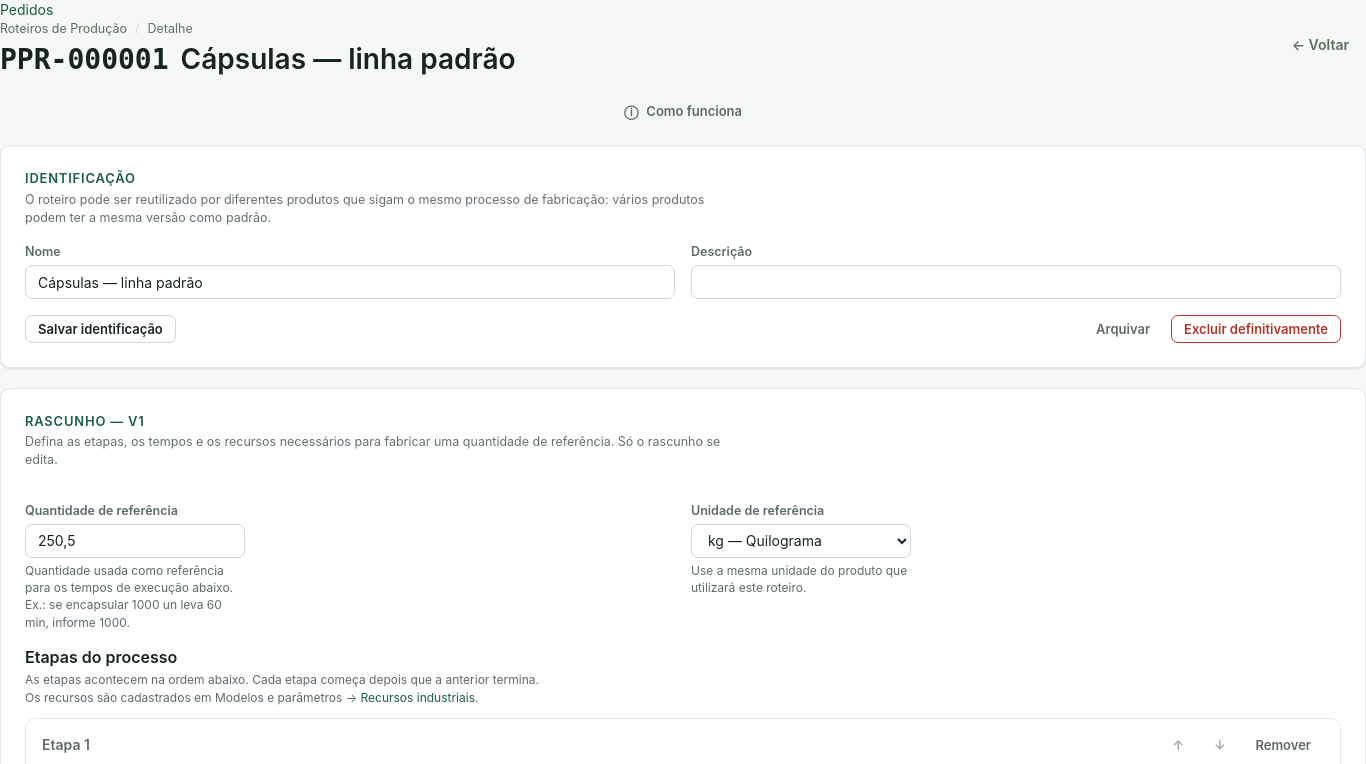
Test: Roteiro restaurado — alterações não salvas › restaurado diferente do servidor fica pendente; salvar grava o restaurado e a pendência some
Expected: the dropdown labelled "Unidade de referência" shows "kg — Quilograma", [691,524,911,558]
Expected: the field labelled "Quantidade de referência" holds "250,5", [25,524,245,558]
# A guarda de saída diz o mesmo que a frase.
Step 1. Click the link "Pedidos" → [27, 10], box [0,1,53,18]
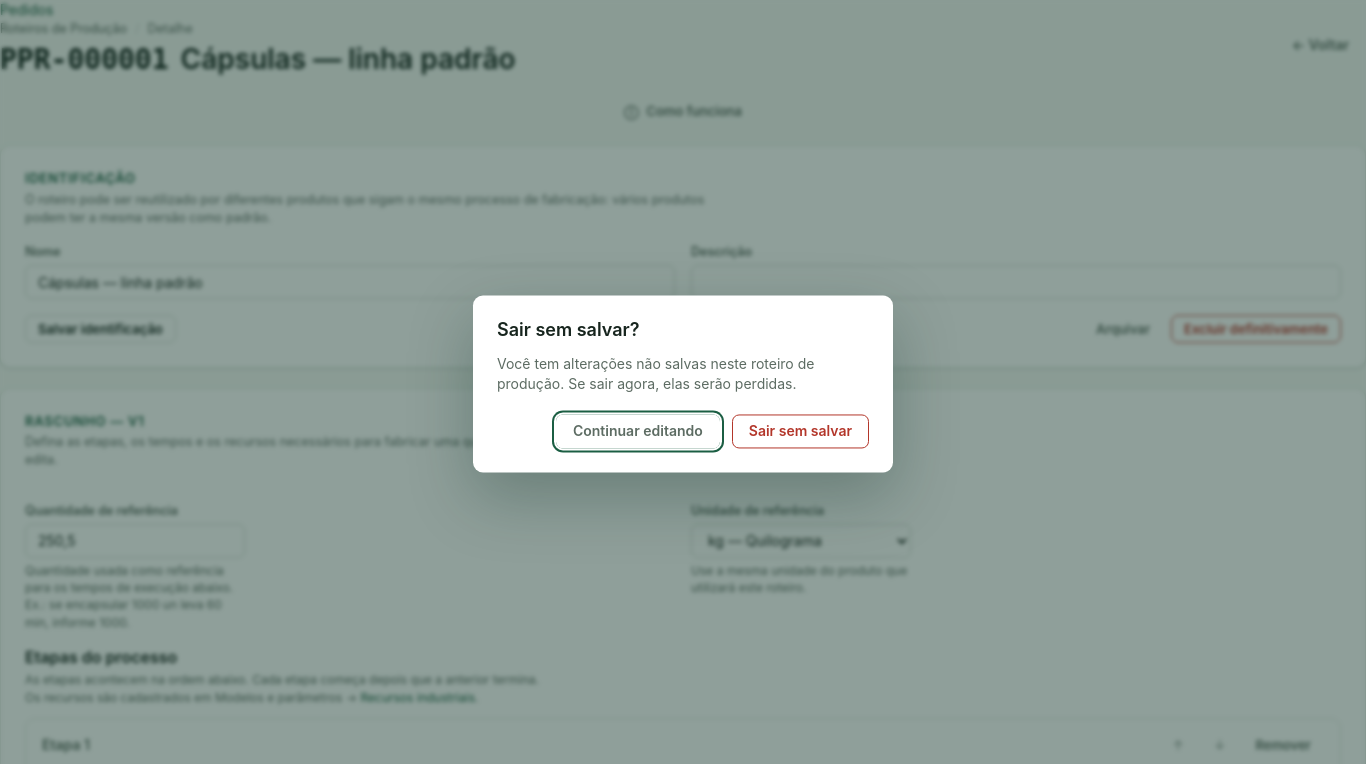
Result: the heading "Sair sem salvar?" is shown at [497,320,640,340]
Step 2. Click the button "Continuar editando" → [638, 432], box [556,414,720,448]
(page scrolled)
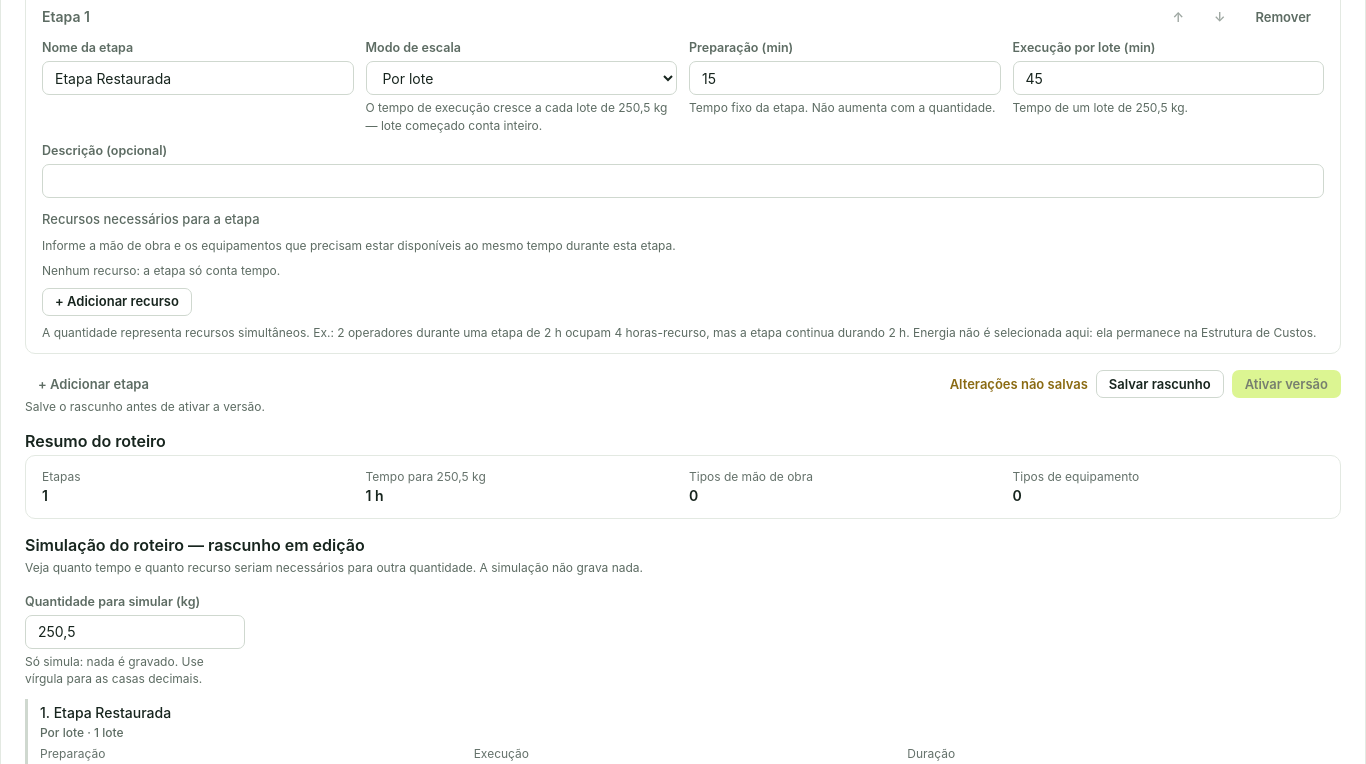
Expected: the number of fields labelled "Nome da etapa" is 1, [42,61,354,95]
Result: the heading "Sair sem salvar?" is gone
Step 3. Click the button "Salvar rascunho" → [1160, 384], box [1096,370,1224,398]
(page scrolled)
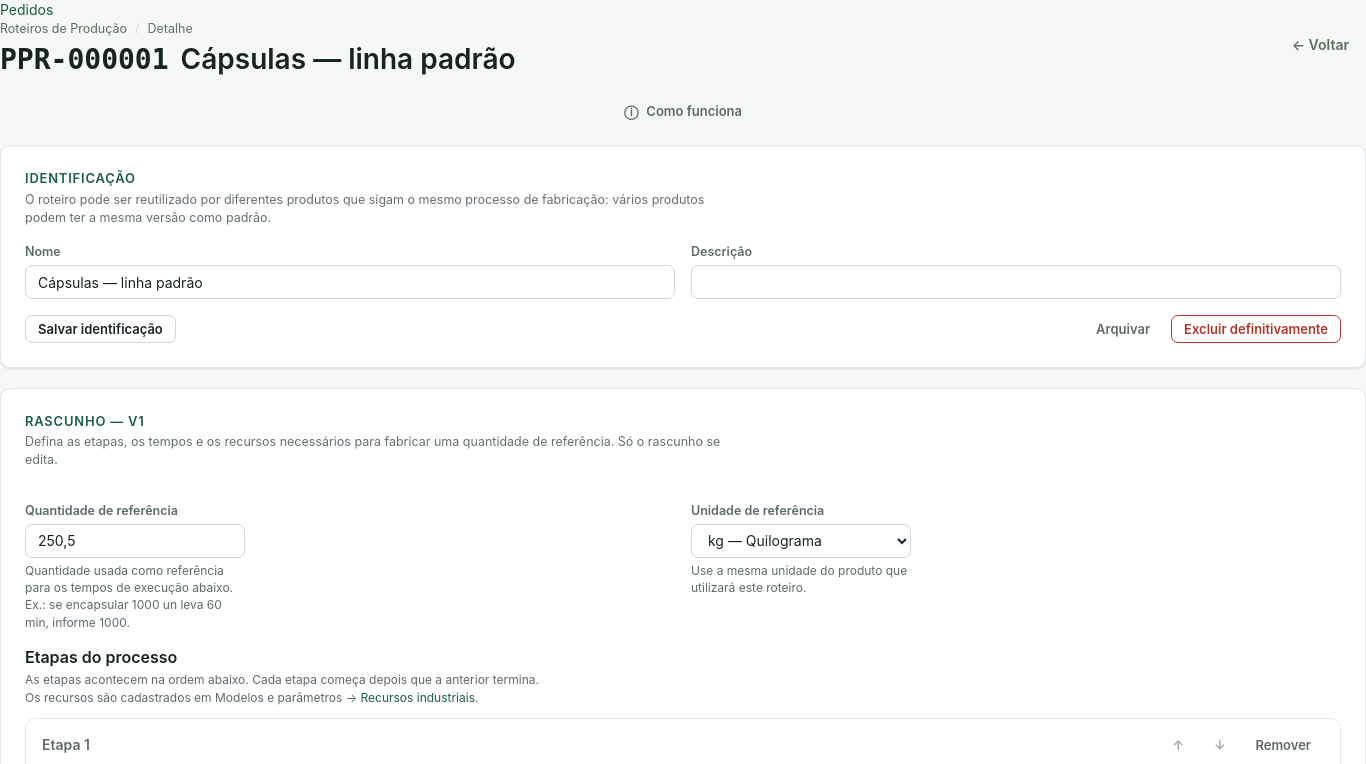
Expected: the field labelled "Quantidade de referência" holds "250,5", [25,524,245,558]
Result: the text "Alterações não salvas" is gone
Step 4. Click the link "Pedidos" → [27, 10], box [0,1,53,18]
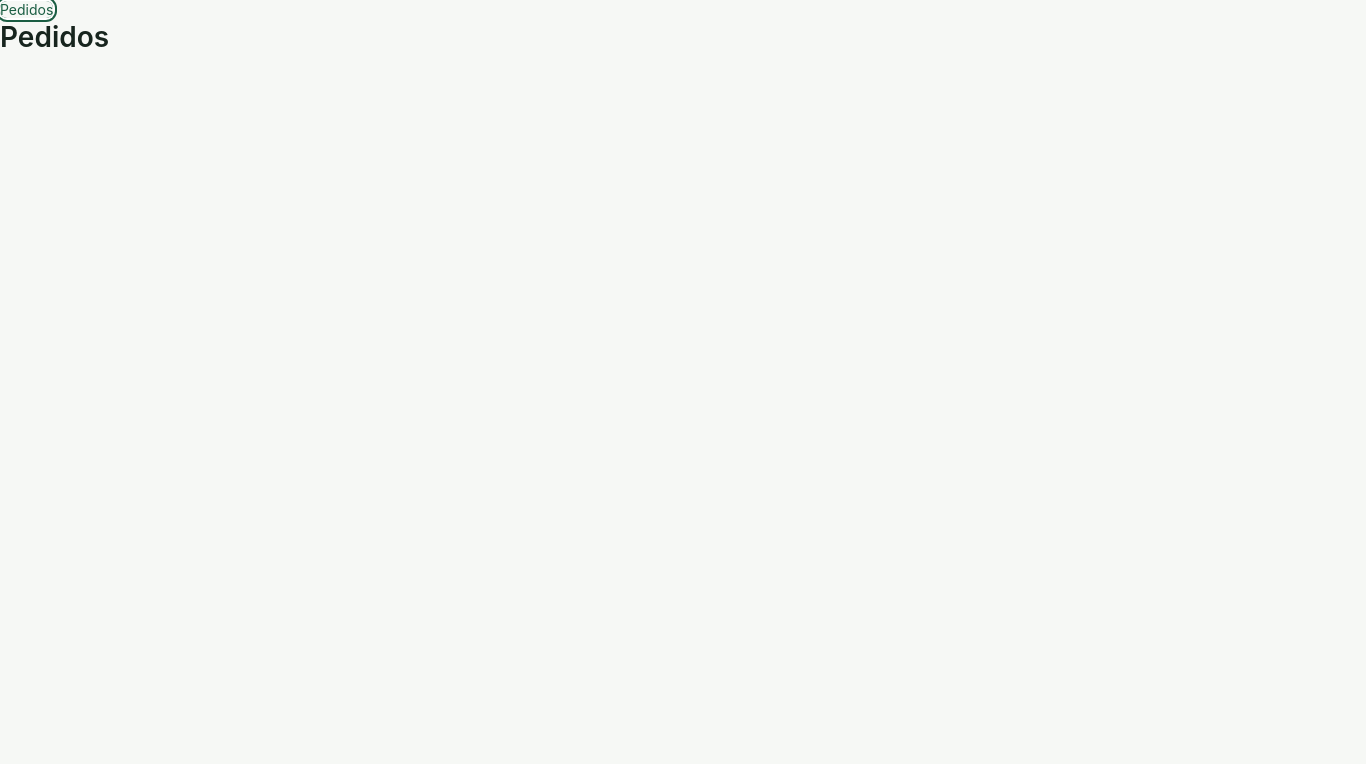
Expected: the heading "Sair sem salvar?" is not shown
Result: the heading "Pedidos" is shown at [0,20,109,54]
